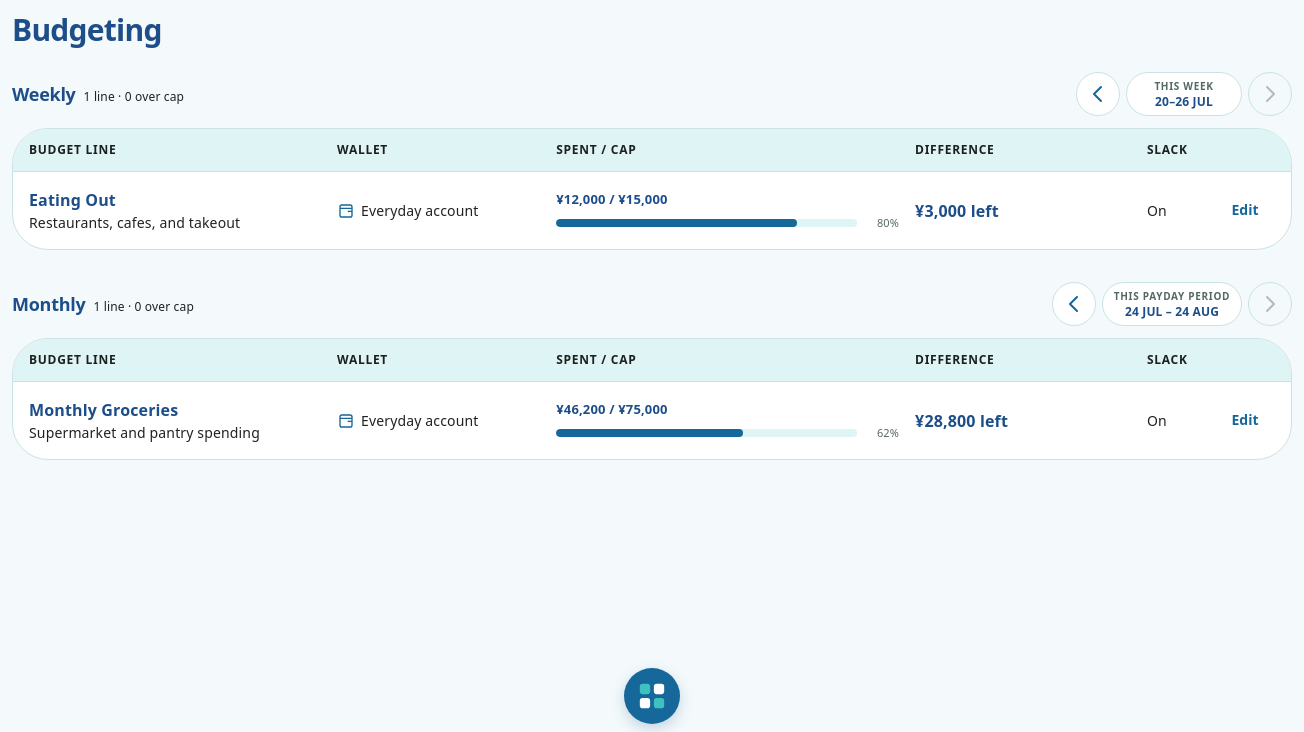
it: BudgetsPage › moves weekly and monthly history independently and labels current-cap comparisons
Expected: the button named "Next week" is disabled, [1248,72,1292,116]
Expected: the button named "Next payday period" is disabled, [1248,282,1292,326]
Click the button named "Previous week" at (1098, 94), box [1076,72,1120,116]
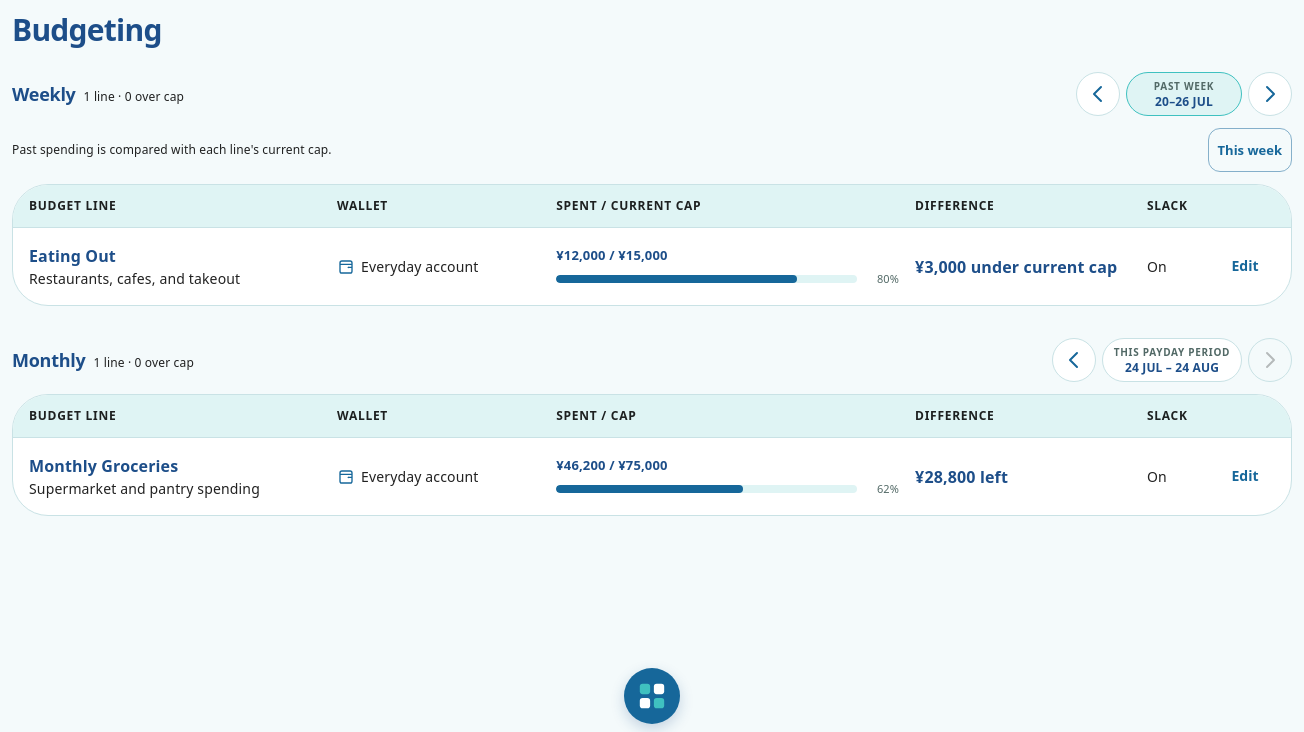
Expected: the button "This week" is shown, [1208,128,1292,172]
Now the text "Past spending is compared with each line's current cap." is shown, box [12,141,332,158]
Now the button named "Next week" is enabled, box [1248,72,1292,116]
Click the button named "Previous payday period" at (1074, 360), box [1052,338,1096,382]
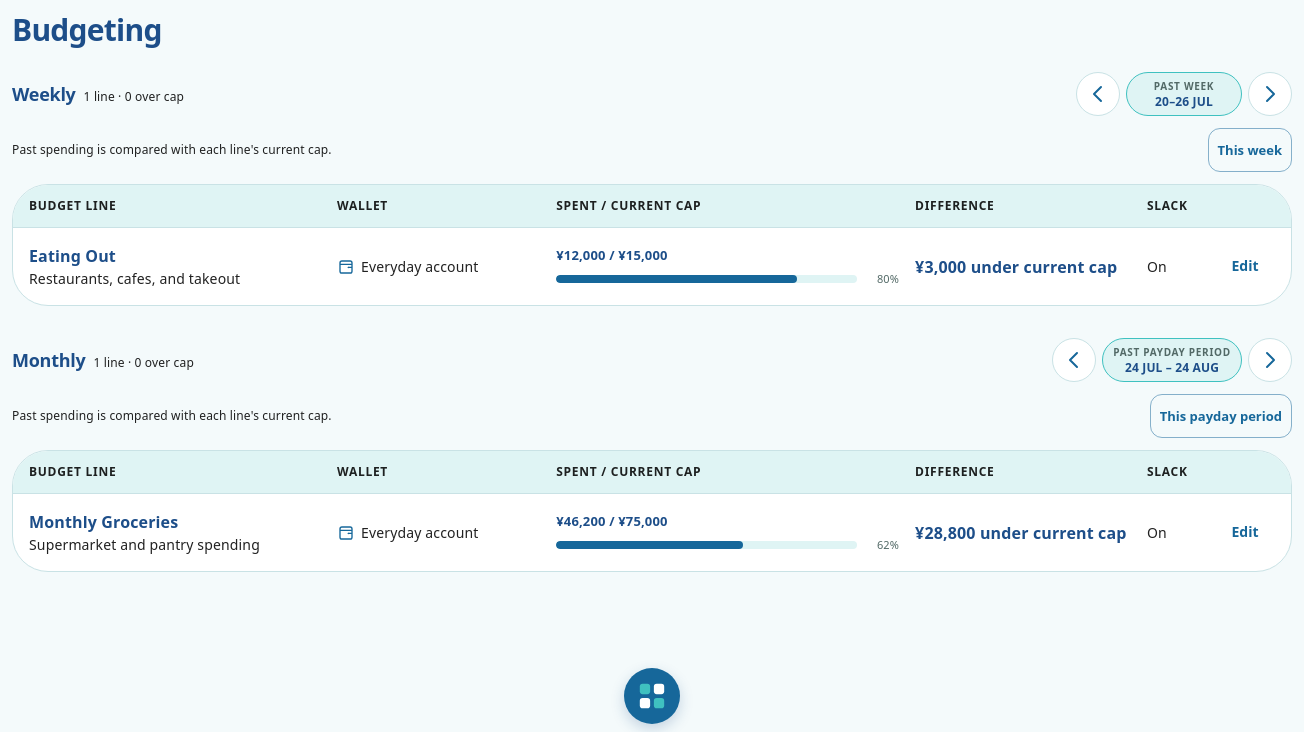
Expected: the button "This week" is shown, [1208,128,1292,172]
Now the button named "Next payday period" is enabled, box [1248,338,1292,382]
